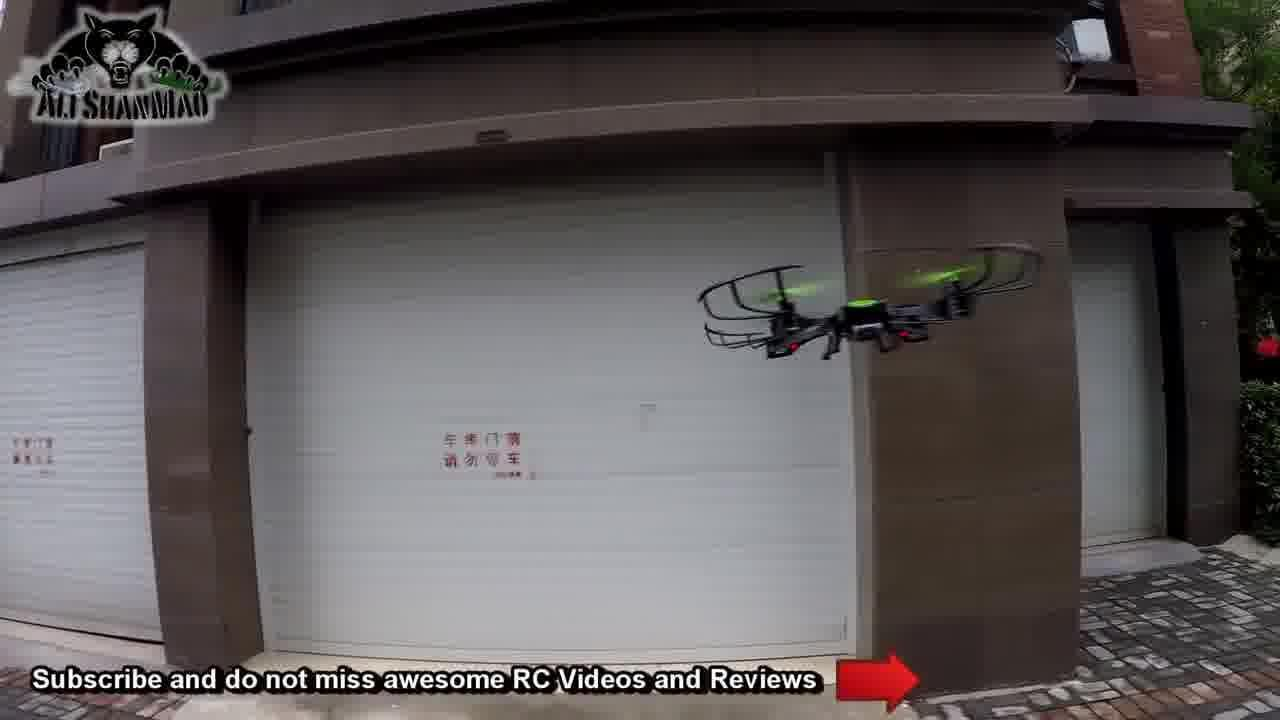drone: (697, 241, 1054, 366)
